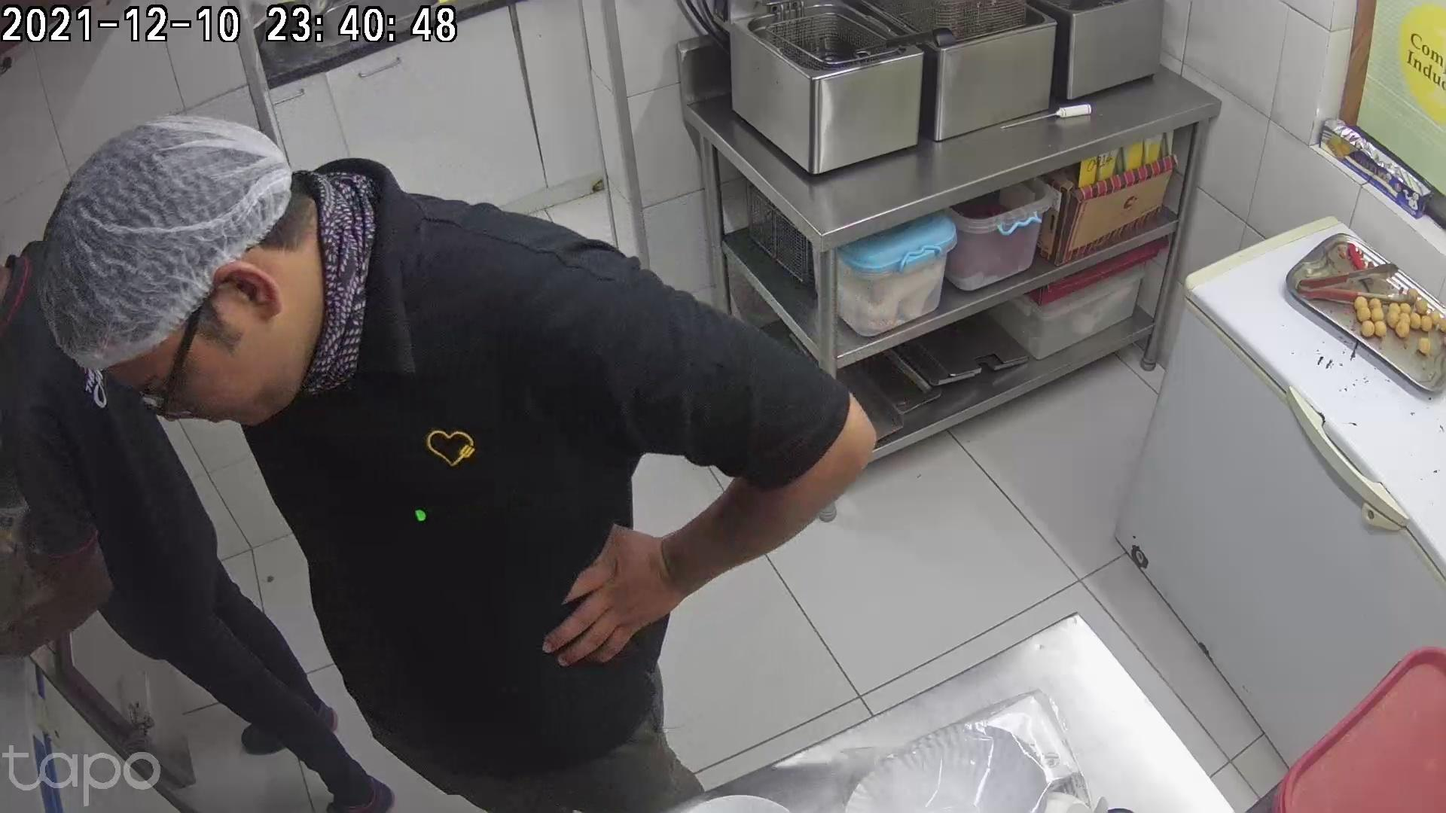no_gloves: (397, 600, 481, 719)
